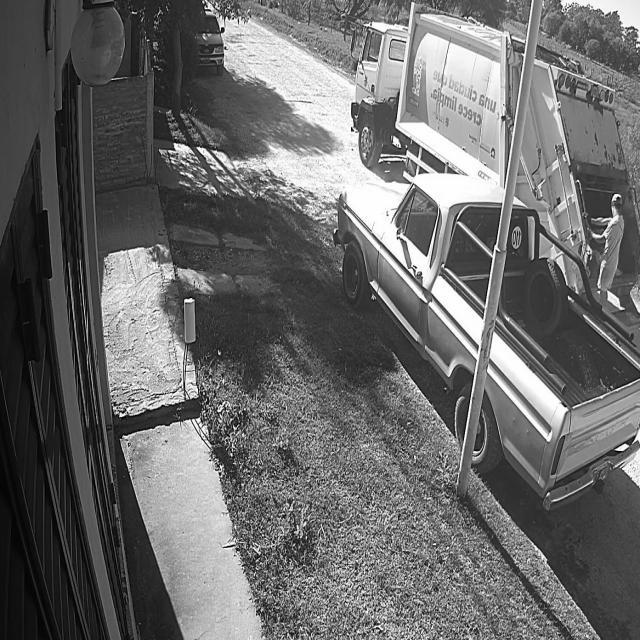Garbage Truck: (516, 46, 640, 320), (350, 3, 525, 189)
